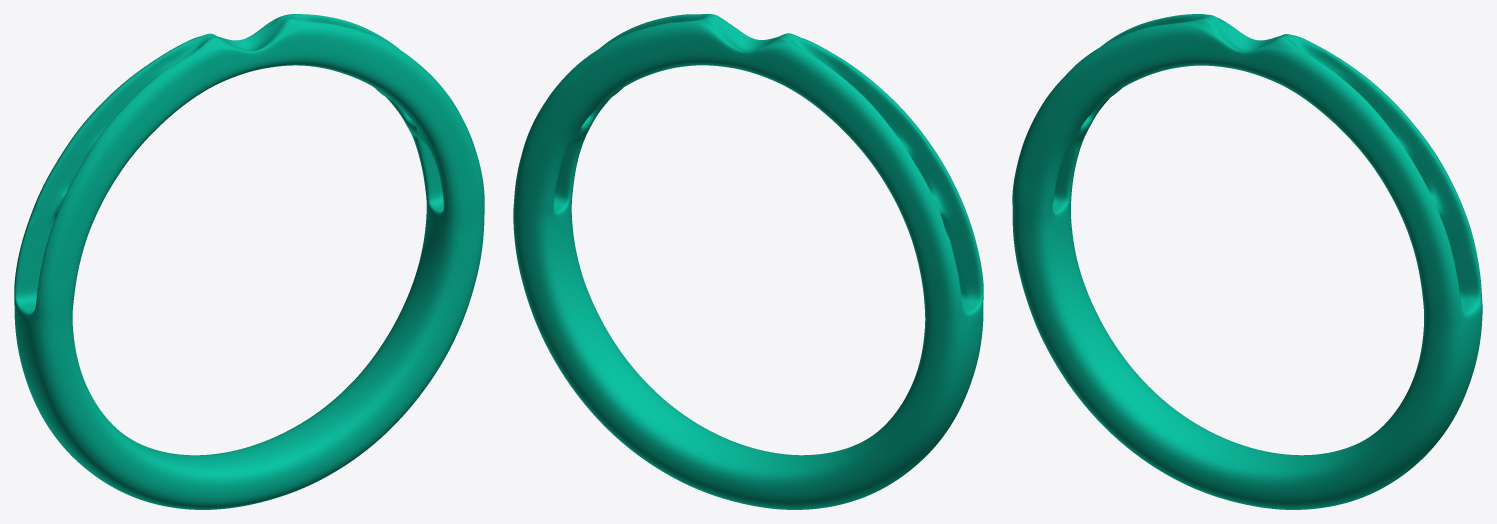
File: Shank_Pinch_Channel_A_Single Halo_Band.glb
3 views of the same model, side by side, from view 1: azimuth 30°, elevation 25°; view 2: azimuth 150°, elevation 25°; view 3: azimuth 330°, elevation 25° (orthographic).
Size of the model in its own units: 0.0213 by 0.0211 by 0.00255.
